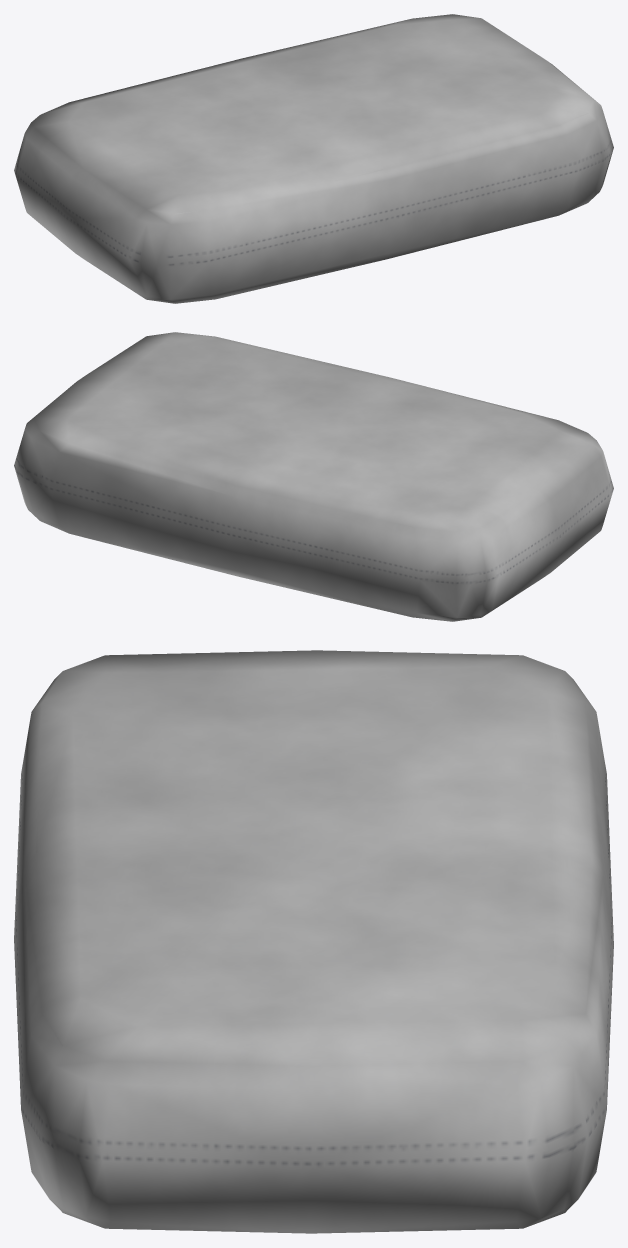
Rendered from LowerTorso_C1.fbx.
The picture shows the model from 3 angles, top to bottom: view 1: azimuth 30°, elevation 25°; view 2: azimuth 150°, elevation 25°; view 3: azimuth 270°, elevation 25°; orthographic projection. The views are drawn at different scales.
Parts seen in each view (by area): view 1: Civ_Bermuda_LowerTorso_C1; view 2: Civ_Bermuda_LowerTorso_C1; view 3: Civ_Bermuda_LowerTorso_C1.
Part boxes in pixels (<box>): Civ_Bermuda_LowerTorso_C1: <box>14,14,613,303</box>; Civ_Bermuda_LowerTorso_C1: <box>14,332,613,621</box>; Civ_Bermuda_LowerTorso_C1: <box>14,650,613,1233</box>.
Size of the model in its own units: 2.28 by 0.4721 by 1.29.
